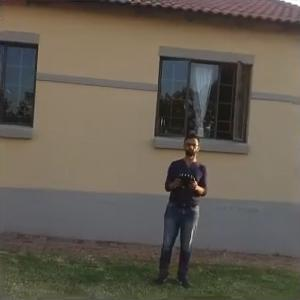follow: (153, 126, 210, 293)
